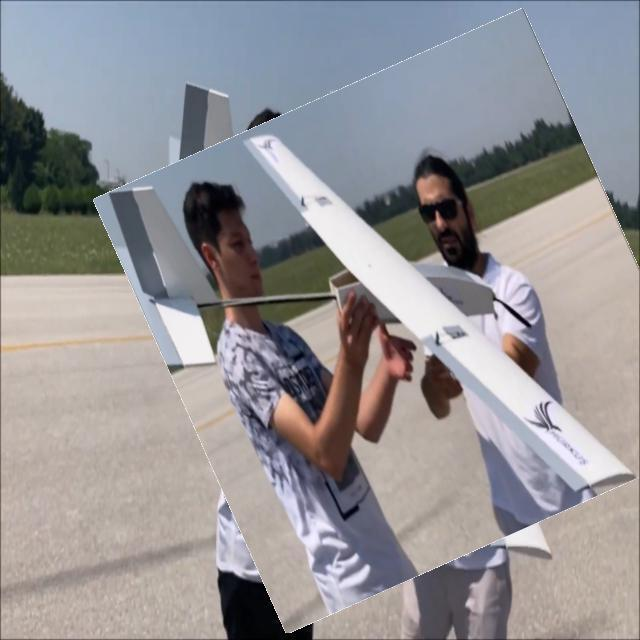UAV: (117, 96, 572, 493)
